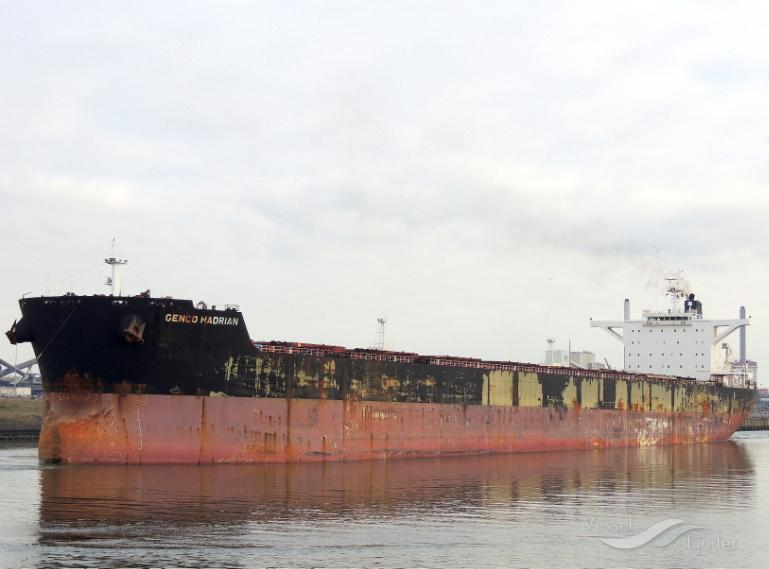OCR: (163, 309, 245, 337)
